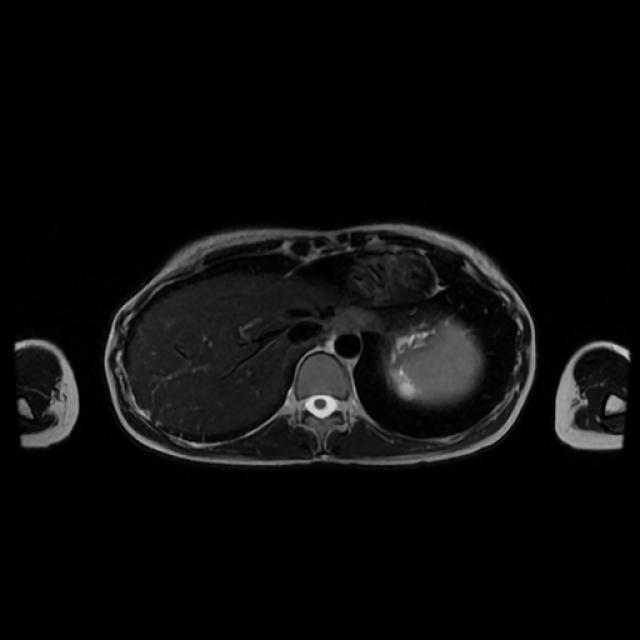sol: (397, 380, 413, 399)
